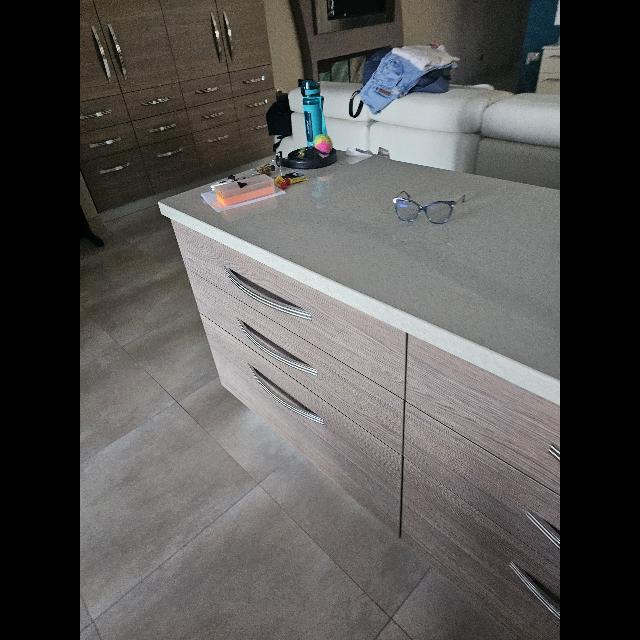glasses: (392, 190, 466, 223)
